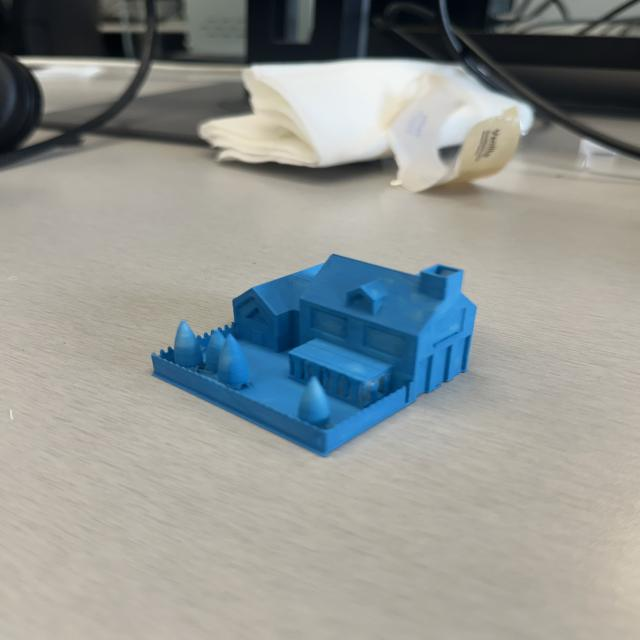house: (151, 250, 481, 460)
